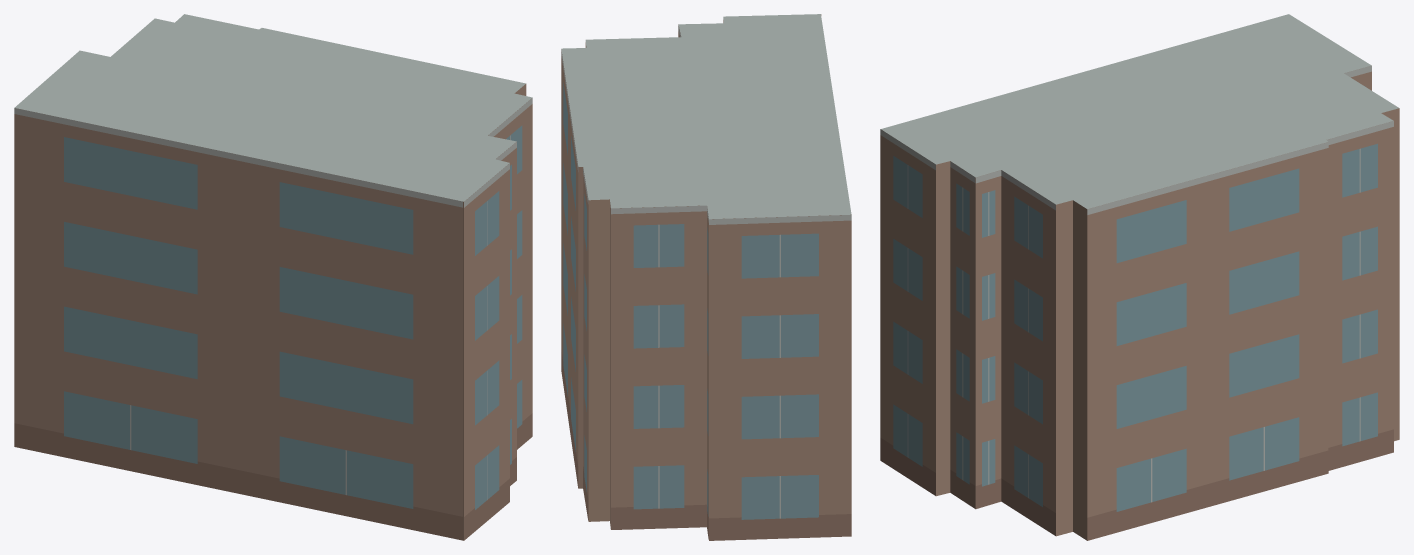
File: survey-upis-32625382.glb
3 renders of one model, left to right at view 1: azimuth 30°, elevation 25°; view 2: azimuth 150°, elevation 25°; view 3: azimuth 270°, elevation 25°, orthographic. The views are drawn at different scales.
Visible parts, largest first — view 1: survey-upis-32625382.tmp; view 2: survey-upis-32625382.tmp; view 3: survey-upis-32625382.tmp.
Boxes of the visible parts, x1=… form: survey-upis-32625382.tmp: x1=14, y1=14, x2=532, y2=540; survey-upis-32625382.tmp: x1=561, y1=14, x2=851, y2=540; survey-upis-32625382.tmp: x1=880, y1=14, x2=1399, y2=540.
Size of the model in its own units: 17.05 by 13.5 by 19.16.
